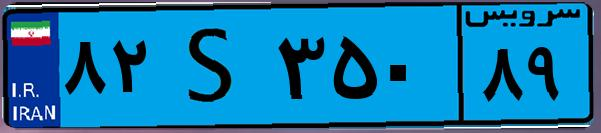0: (385, 28, 445, 110)
2: (110, 28, 158, 98)
3: (270, 28, 330, 110)
5: (330, 28, 385, 110)
8: (57, 26, 110, 100), (475, 38, 525, 113)
9: (525, 38, 570, 115)
S: (158, 12, 270, 120)
